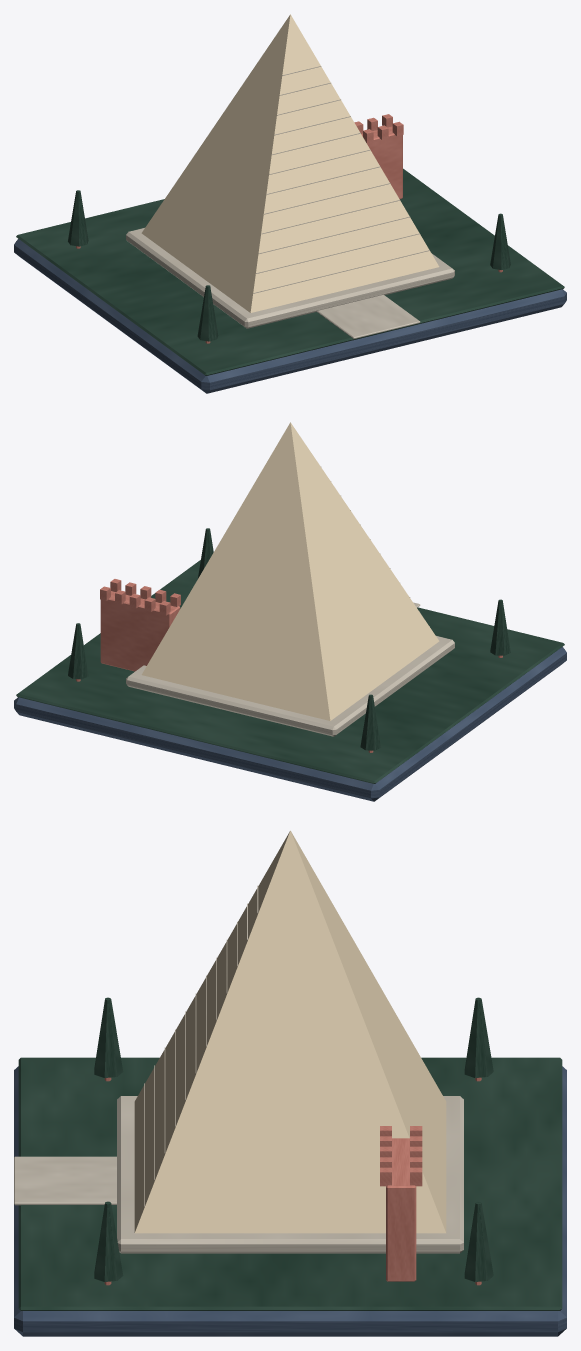
File: pyramid-cestius-diorama.glb
3 renders of one model, top to bottom at view 1: azimuth 30°, elevation 25°; view 2: azimuth 150°, elevation 25°; view 3: azimuth 270°, elevation 25°, orthographic. The views are drawn at different scales.
Parts seen in each view (by area): view 1: pyramid-cestius; view 2: pyramid-cestius; view 3: pyramid-cestius.
Boxes of the visible parts, left/top/right/bottom form: pyramid-cestius: left=14, top=14, right=566, bottom=393; pyramid-cestius: left=14, top=422, right=566, bottom=801; pyramid-cestius: left=14, top=830, right=566, bottom=1336.
Size of the model in its own units: 12 by 8.4 by 11.
Materials: 1 (1 with a texture image).
